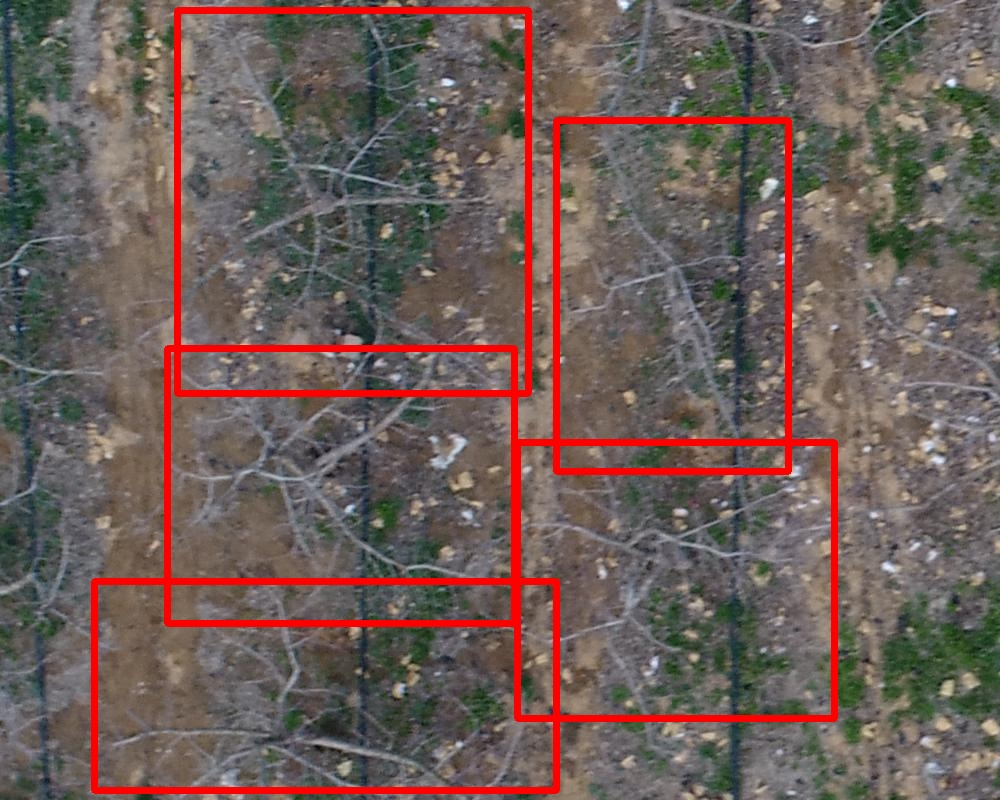apple: (177, 10, 528, 393), (94, 581, 556, 790), (167, 348, 514, 623), (517, 442, 834, 718), (556, 120, 788, 471)
